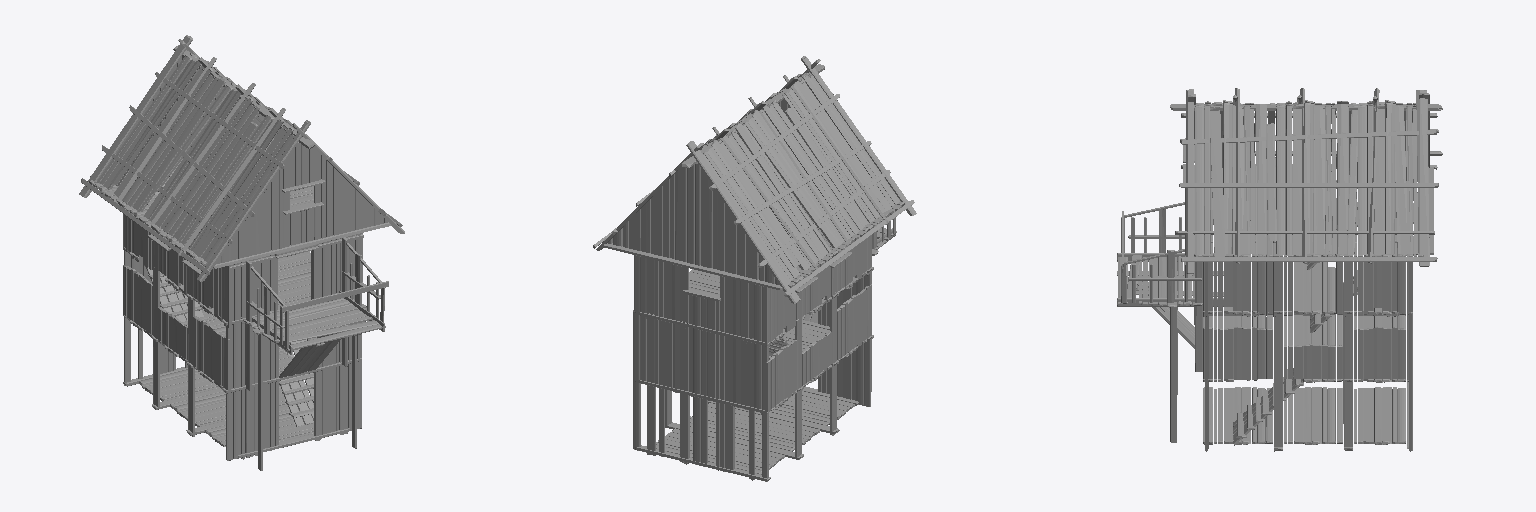
The model's file is -LOD0_z_hut_004.obj.
3 views of the same model, side by side, from view 1: azimuth 30°, elevation 25°; view 2: azimuth 150°, elevation 25°; view 3: azimuth 270°, elevation 25° (orthographic).
Parts seen in each view (by area): view 1: Cube.009_Cube.005; view 2: Cube.009_Cube.005; view 3: Cube.009_Cube.005.
Part boxes in pixels (bbox=[...]): Cube.009_Cube.005: bbox=[79, 35, 404, 470]; Cube.009_Cube.005: bbox=[593, 56, 916, 481]; Cube.009_Cube.005: bbox=[1117, 88, 1442, 451].
Bounding box in the file's own units: 7.99 × 12.29 × 10.98.